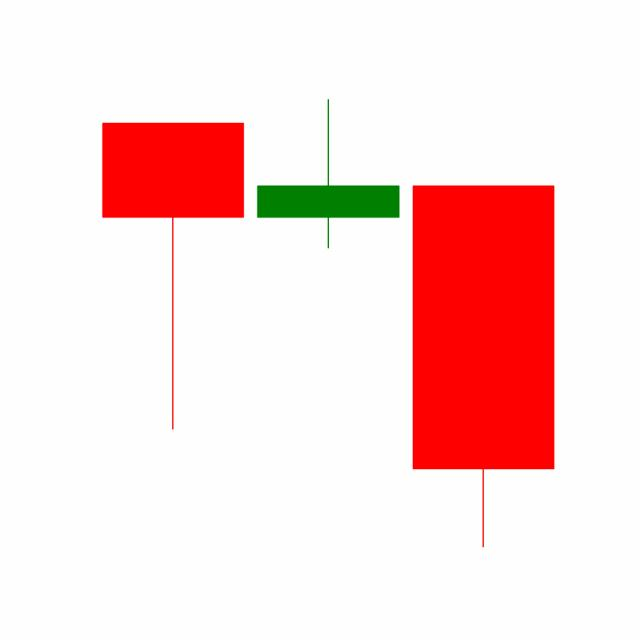Spinning Top: (249, 97, 406, 251)
